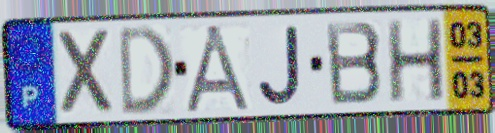A: (181, 22, 257, 115)
B: (322, 19, 386, 108)
D: (117, 23, 176, 119)
H: (384, 16, 448, 106)
J: (255, 23, 304, 108)
X: (55, 26, 118, 119)
